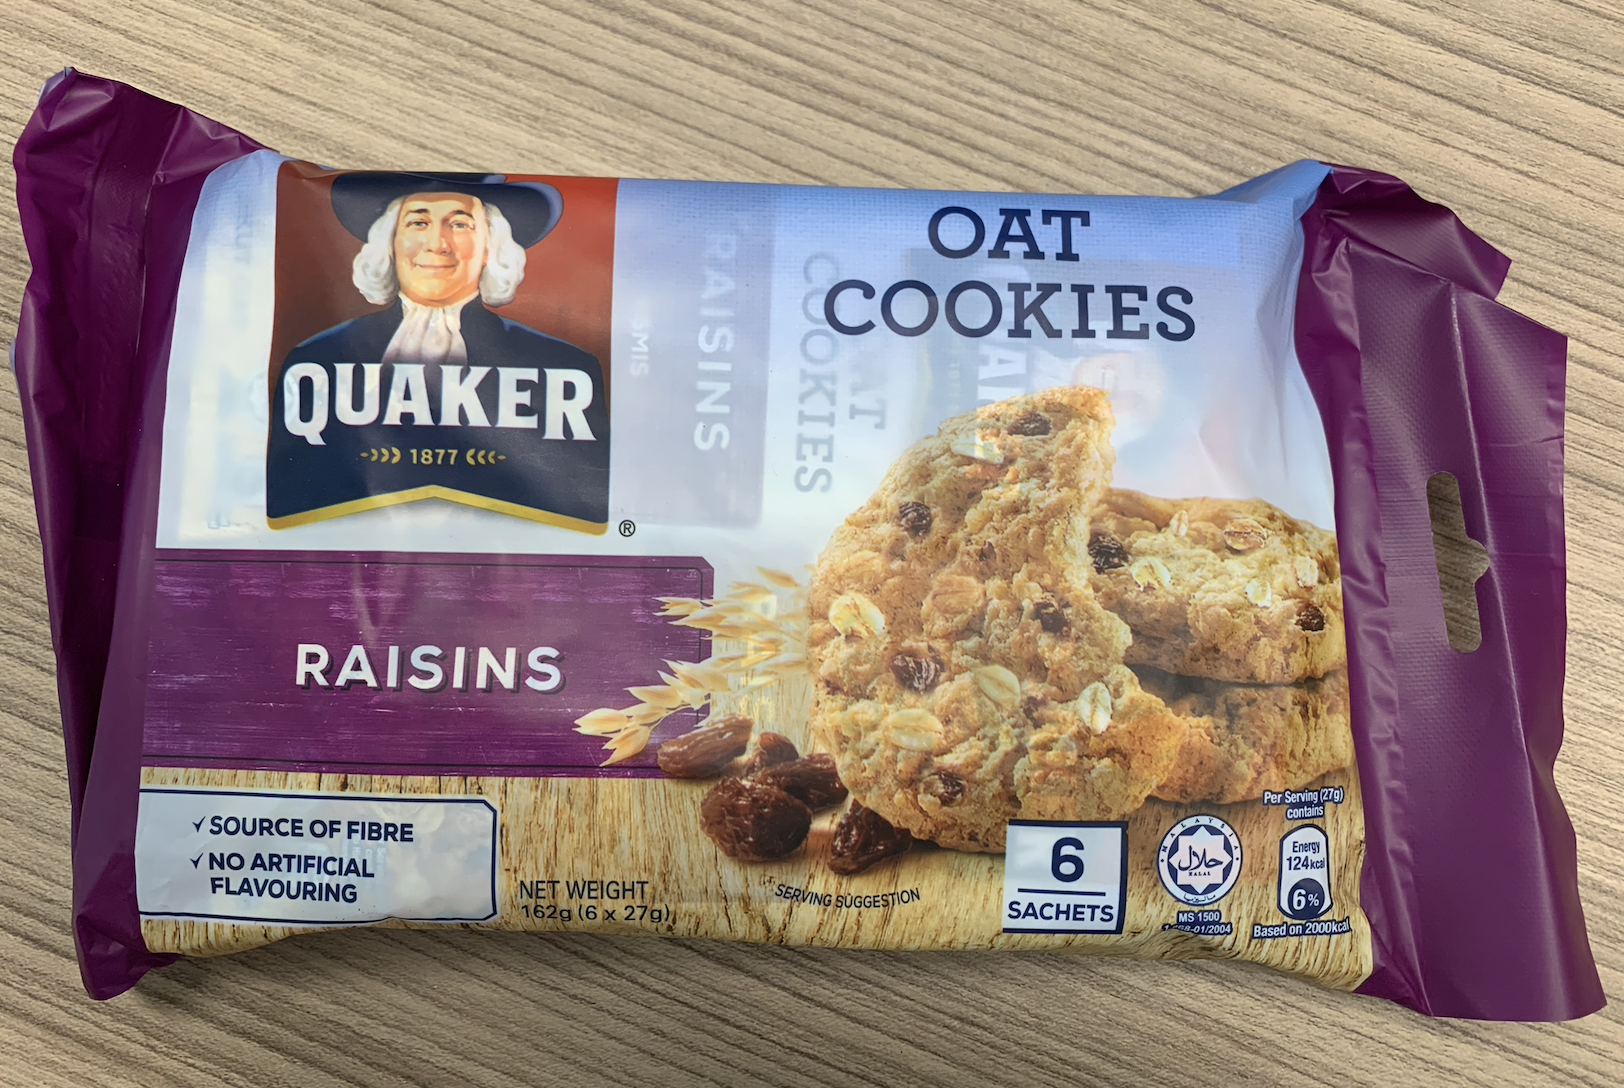cookies_100g-199g: (127, 189, 1372, 936)
